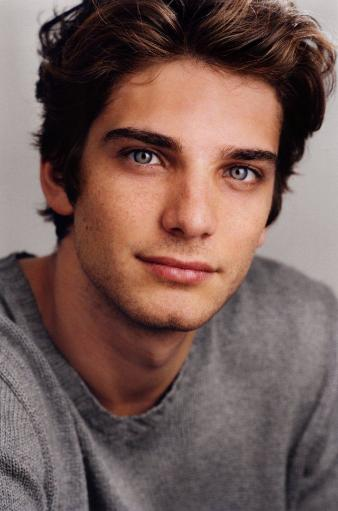left_eye: (219, 164, 264, 188)
left_lip_corner: (210, 265, 224, 281)
right_eye: (114, 147, 172, 173)
right_lip_corner: (132, 251, 149, 271)
